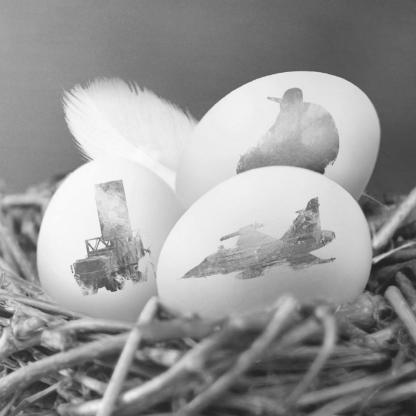JAS39: (176, 197, 337, 282)
